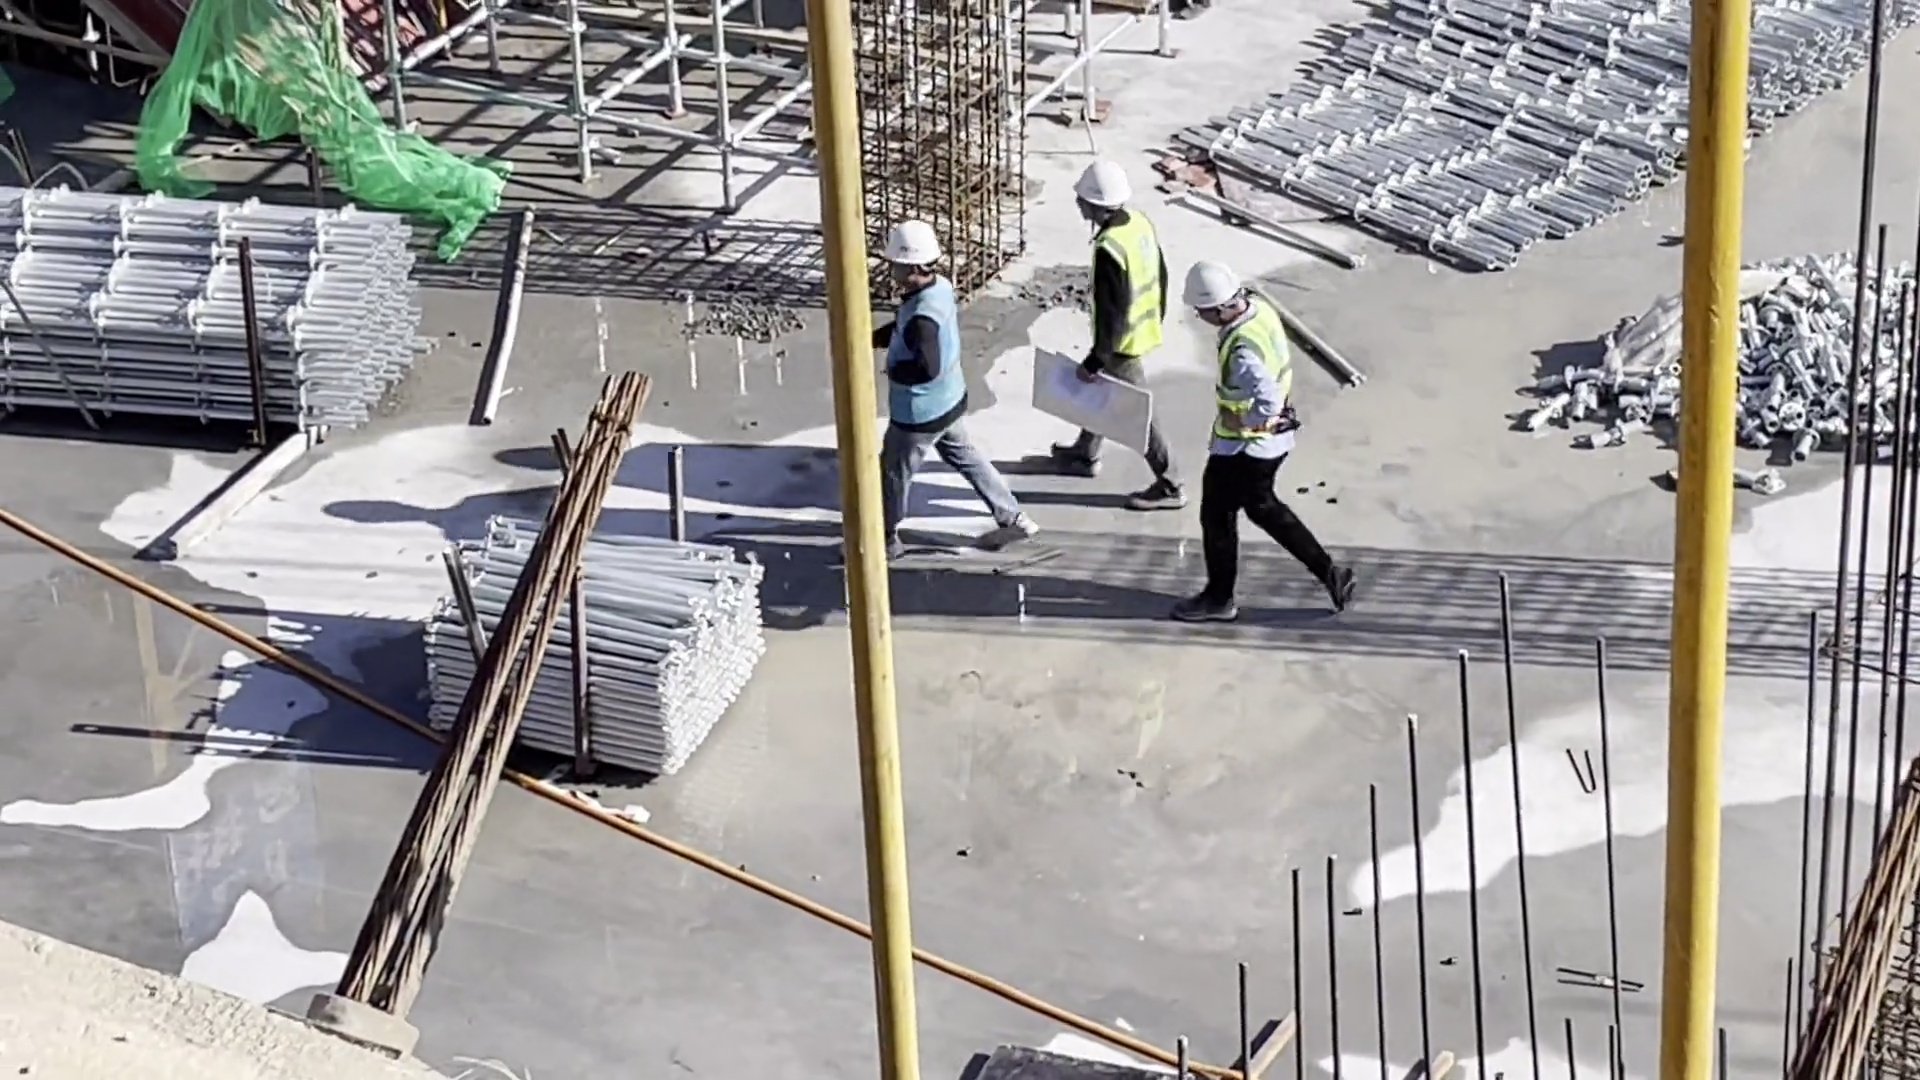helmet: (1183, 259, 1240, 308), (1074, 161, 1130, 208), (883, 220, 942, 265)
person: (1159, 256, 1369, 626), (881, 213, 1044, 560), (1048, 160, 1193, 516)
scaffold: (1, 185, 415, 426), (427, 518, 765, 775)
vest: (888, 275, 968, 425), (1214, 300, 1294, 440), (1090, 208, 1165, 357)
